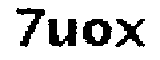7: (9, 2, 46, 51)
o: (81, 19, 114, 50)
u: (45, 14, 79, 51)
x: (115, 16, 150, 50)
